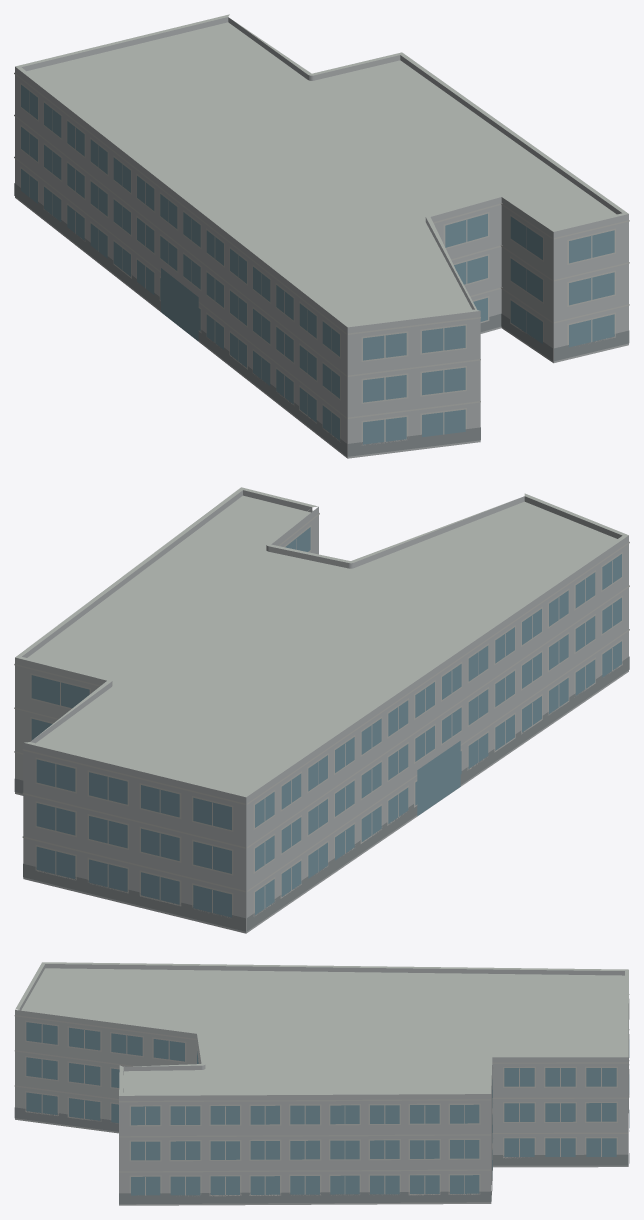
Rendered from public-9895a695-9243-4830-b0a6-6b3ccda40b1a.glb.
3 renders of one model, top to bottom at view 1: azimuth 30°, elevation 25°; view 2: azimuth 150°, elevation 25°; view 3: azimuth 270°, elevation 25°, orthographic. The views are drawn at different scales.
Visible parts, largest first — view 1: public-9895a695-9243-4830-b0a6-6b3ccda40b1a; view 2: public-9895a695-9243-4830-b0a6-6b3ccda40b1a; view 3: public-9895a695-9243-4830-b0a6-6b3ccda40b1a.
Part boxes in pixels (x1,y1,x2,y2): public-9895a695-9243-4830-b0a6-6b3ccda40b1a: (14,14,629,458); public-9895a695-9243-4830-b0a6-6b3ccda40b1a: (14,487,629,933); public-9895a695-9243-4830-b0a6-6b3ccda40b1a: (14,962,629,1205).
Bounding box in the file's own units: 24.58 × 9.15 × 46.49.
